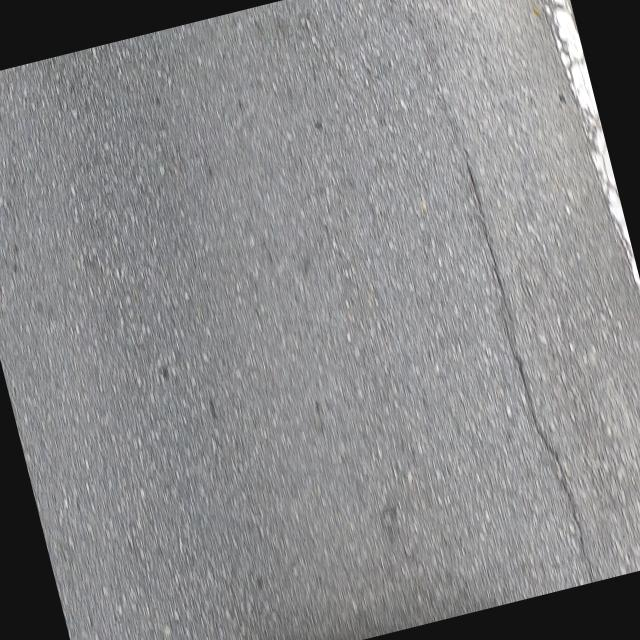Retak-Memanjang: (461, 161, 600, 576)
